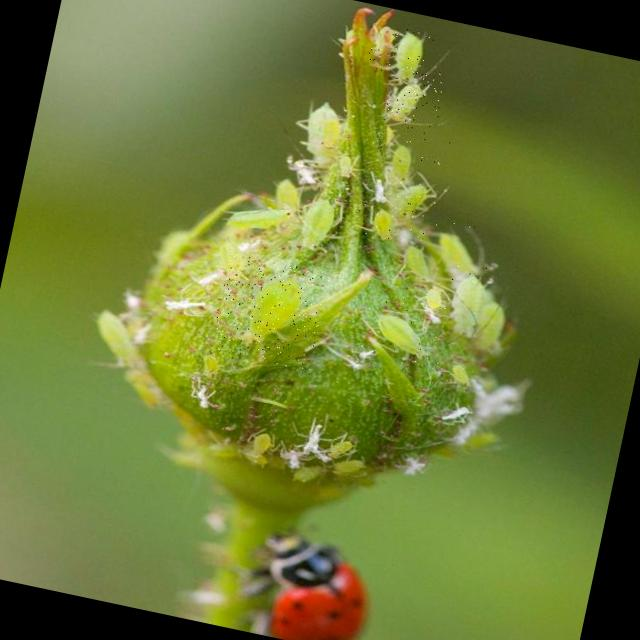aphid: (208, 252, 330, 371), (355, 291, 453, 372), (351, 174, 442, 248), (420, 211, 496, 291), (378, 62, 449, 137), (360, 22, 434, 90), (363, 125, 450, 173)
